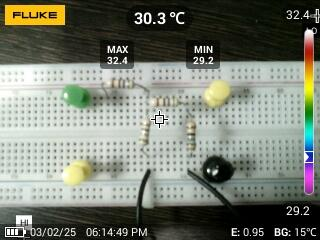resistor: (146, 95, 182, 110), (105, 75, 136, 92), (184, 121, 199, 155), (137, 116, 151, 150)
